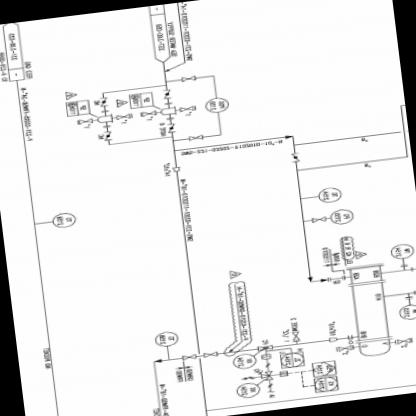LMI: (48, 204, 78, 231), (327, 205, 359, 228), (228, 380, 260, 402), (385, 238, 415, 261), (148, 328, 182, 348), (199, 95, 231, 115), (316, 184, 346, 205), (230, 352, 257, 371), (394, 302, 415, 325)
TAG: (274, 350, 306, 370), (311, 375, 341, 394)
